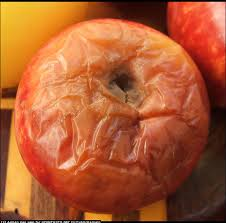damaged_apple: (19, 26, 207, 205)
